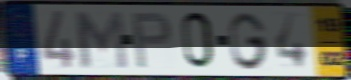0: (180, 10, 217, 71)
4: (40, 8, 78, 72), (275, 12, 312, 72)
G: (227, 11, 270, 72)
M: (72, 9, 131, 71)
P: (130, 10, 174, 70)
